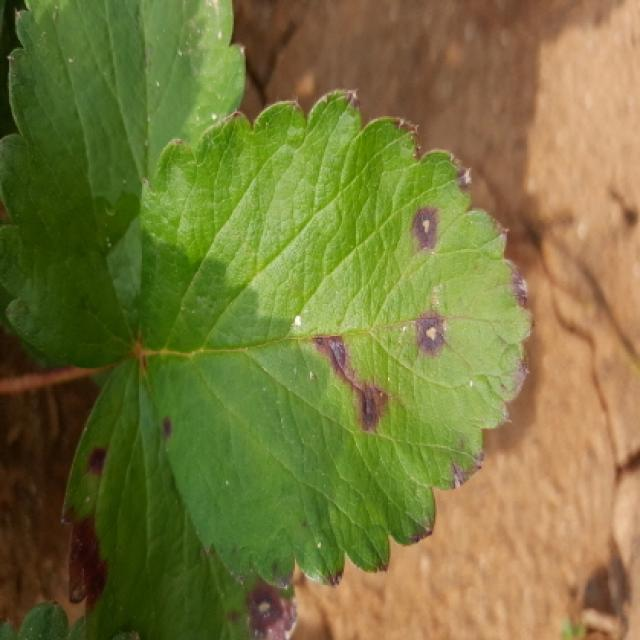Leaf Spot: (138, 91, 537, 589), (60, 350, 301, 638)
